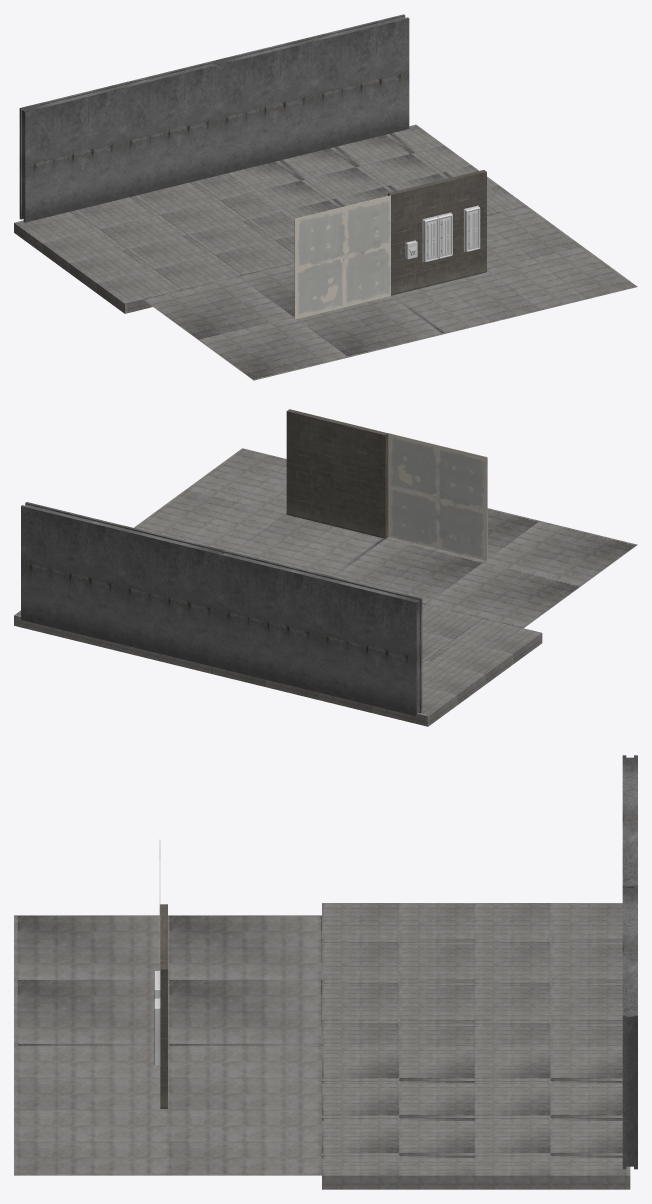
File: BuildingMap_1_3.gltf
The picture shows the model from 3 angles, top to bottom: view 1: azimuth 30°, elevation 25°; view 2: azimuth 150°, elevation 25°; view 3: azimuth 270°, elevation 25°; orthographic projection. The views are drawn at different scales.
Parts seen in each view (by area): view 1: SM_BP_WallCon_8x7, SM_Floors_Thick_132, SM_BP_WallCon_8x6, SM_Floors_Plain_30, SM_Floors_Plain_29, SM_Floors_Thick_133, SM_Wall_Inside_29, SM_BW_BrickWall4m13, SM_electricitybox2, SM_electricitybox1; view 2: SM_BP_WallCon_8x7, SM_BP_WallCon_8x6, SM_Floors_Plain_30, SM_Floors_Plain_29, SM_BW_BrickWall4m13, SM_Wall_Inside_29, SM_Floors_Thick_132, SM_Floors_Thick_133; view 3: SM_Floors_Thick_133, SM_Floors_Thick_132, SM_Floors_Plain_29, SM_Floors_Plain_30, SM_BP_WallCon_8x6, SM_BP_WallCon_8x7, SM_BW_BrickWall4m13.
Part boxes in pixels (x1,y1,x2,y2): SM_BP_WallCon_8x7: [19, 61, 217, 222]; SM_Floors_Thick_132: [14, 173, 294, 313]; SM_BP_WallCon_8x6: [212, 14, 409, 175]; SM_Floors_Plain_30: [143, 262, 445, 380]; SM_Floors_Plain_29: [393, 206, 637, 333]; SM_Floors_Thick_133: [227, 124, 526, 222]; SM_Wall_Inside_29: [294, 195, 390, 319]; SM_BW_BrickWall4m13: [388, 170, 486, 295]; SM_electricitybox2: [422, 212, 452, 262]; SM_electricitybox1: [463, 205, 480, 252]; SM_BP_WallCon_8x7: [219, 550, 422, 716]; SM_BP_WallCon_8x6: [21, 502, 224, 667]; SM_Floors_Plain_30: [331, 508, 637, 628]; SM_Floors_Plain_29: [134, 448, 382, 575]; SM_BW_BrickWall4m13: [286, 409, 388, 538]; SM_Wall_Inside_29: [388, 433, 487, 560]; SM_Floors_Thick_132: [211, 603, 542, 726]; SM_Floors_Thick_133: [14, 610, 211, 673]; SM_Floors_Thick_133: [322, 1045, 630, 1189]; SM_Floors_Thick_132: [322, 903, 622, 1045]; SM_Floors_Plain_29: [14, 1045, 321, 1175]; SM_Floors_Plain_30: [14, 915, 321, 1045]; SM_BP_WallCon_8x6: [622, 885, 637, 1169]; SM_BP_WallCon_8x7: [622, 755, 637, 887]; SM_BW_BrickWall4m13: [160, 904, 167, 1108].
Bounding box in the file's own units: 16.75 × 4.8 × 16.2.
Materials: 8 (8 with a texture image).
